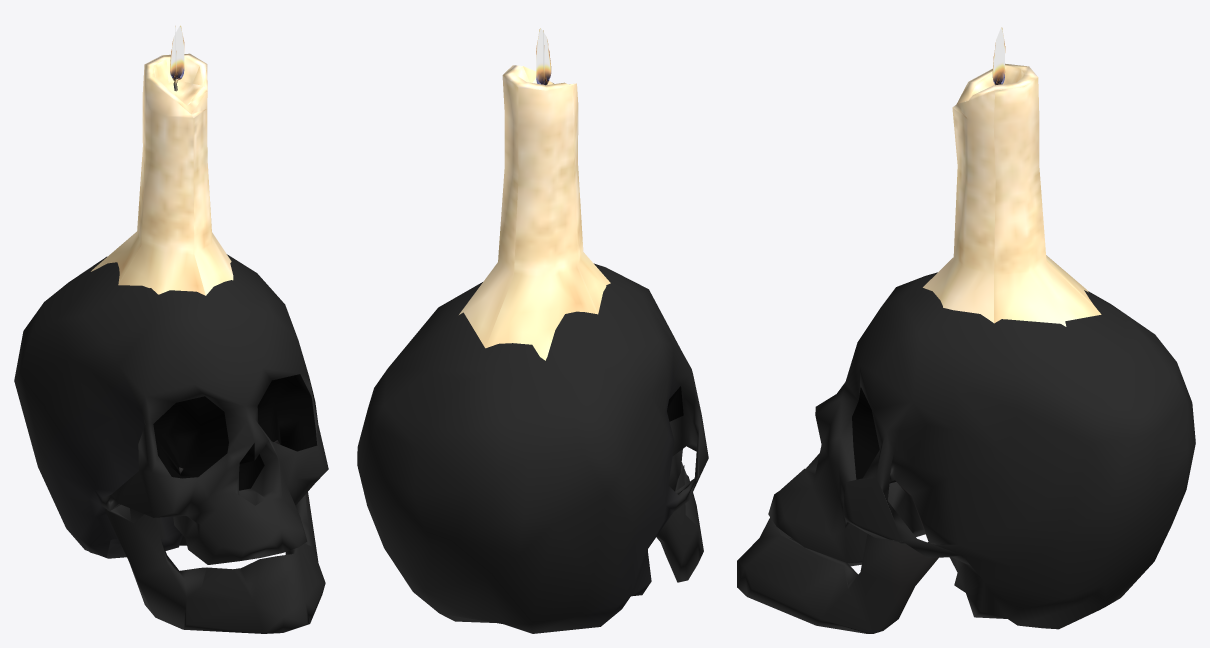
Rendered from CandleSkullShapeA.003.glb.
3 renders of one model, left to right at view 1: azimuth 30°, elevation 25°; view 2: azimuth 150°, elevation 25°; view 3: azimuth 270°, elevation 25°, orthographic. The views are drawn at different scales.
Visible parts, largest first — view 1: CandleSkullShapeA.003; view 2: CandleSkullShapeA.003; view 3: CandleSkullShapeA.003.
Part boxes in pixels (x1,y1,x2,y2): CandleSkullShapeA.003: (14, 25, 328, 633); CandleSkullShapeA.003: (357, 28, 708, 633); CandleSkullShapeA.003: (737, 27, 1195, 633).
Size of the model in its own units: 0.2005 by 0.4386 by 0.3132.
2 materials, 2 textured.
